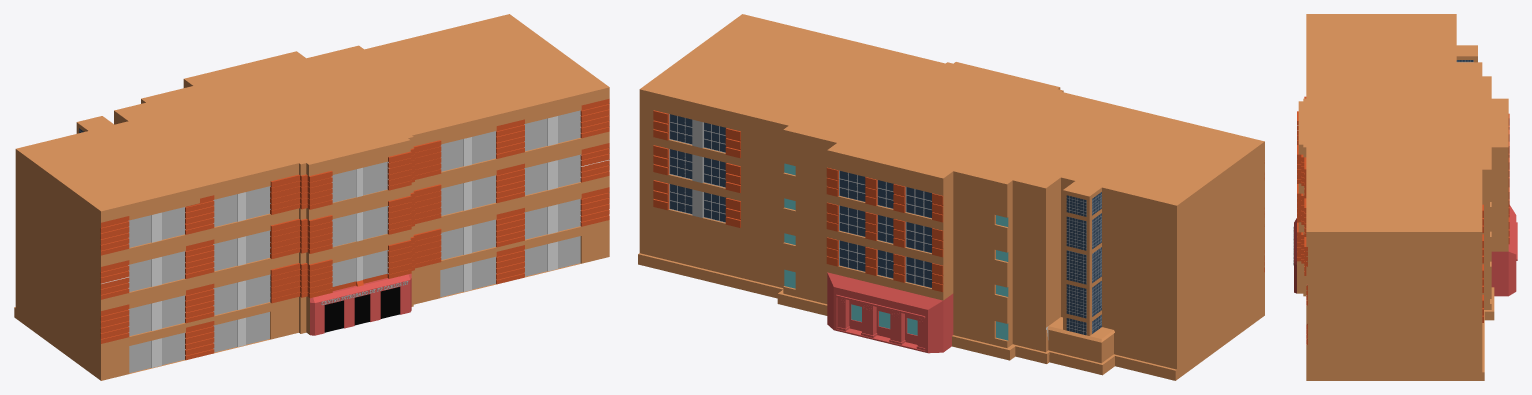
Rendered from CIFP Carlos III.fbx.
3 views of the same model, side by side, from view 1: azimuth 30°, elevation 25°; view 2: azimuth 150°, elevation 25°; view 3: azimuth 270°, elevation 25° (orthographic). The views are drawn at different scales.
Visible parts, largest first — view 1: Cube; view 2: Cube; view 3: Cube.
Boxes of the visible parts, x1,y1,x2,y2 form: Cube: (14, 14, 609, 380); Cube: (638, 14, 1264, 380); Cube: (1294, 14, 1517, 380).
Size of the model in its own units: 21450 by 6834 by 9334.
